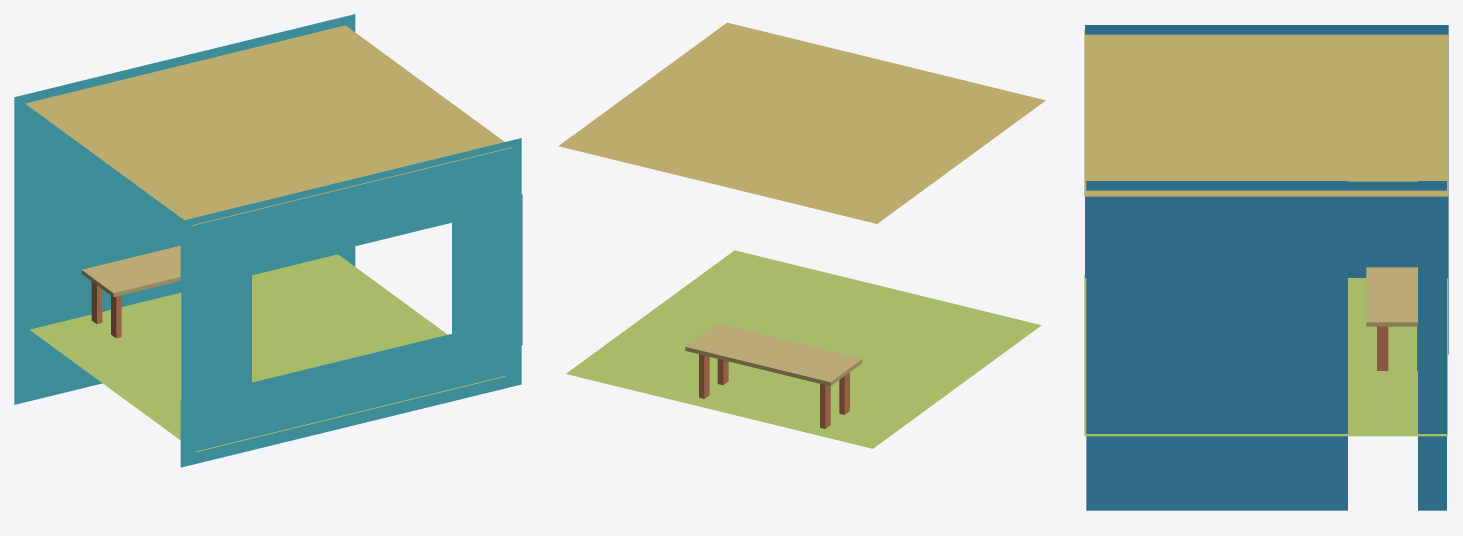
File: room1.gltf
3 renders of one model, left to right at view 1: azimuth 30°, elevation 25°; view 2: azimuth 150°, elevation 25°; view 3: azimuth 270°, elevation 25°, orthographic. The views are drawn at different scales.
Visible parts, largest first — view 1: Plane.004, Plane.005, Plane, Plane.006, Plane.001, Plane.007, Plane.008, Cube; view 2: Plane.004, Plane, Cube; view 3: Plane.003, Plane.004, Plane, Plane.009, Plane.010, Plane.002, Cube, Cube.003.
Boxes of the visible parts, x1=… form: Plane.004: x1=25, y1=25, x2=512, y2=225; Plane.005: x1=14, y1=14, x2=355, y2=404; Plane: x1=30, y1=254, x2=504, y2=451; Plane.006: x1=180, y1=138, x2=521, y2=288; Plane.001: x1=180, y1=317, x2=521, y2=467; Plane.007: x1=181, y1=260, x2=251, y2=428; Plane.008: x1=452, y1=194, x2=522, y2=344; Cube: x1=81, y1=245, x2=180, y2=297; Plane.004: x1=558, y1=22, x2=1045, y2=223; Plane: x1=566, y1=250, x2=1041, y2=448; Cube: x1=685, y1=323, x2=862, y2=386; Plane.003: x1=1086, y1=181, x2=1347, y2=510; Plane.004: x1=1084, y1=29, x2=1448, y2=196; Plane: x1=1084, y1=274, x2=1447, y2=436; Plane.009: x1=1418, y1=181, x2=1446, y2=510; Plane.010: x1=1341, y1=181, x2=1424, y2=267; Plane.002: x1=1085, y1=25, x2=1448, y2=354; Cube: x1=1366, y1=267, x2=1417, y2=326; Cube.003: x1=1377, y1=326, x2=1388, y2=370.
Bounding box in the file's own units: 13.96 × 12 × 12.03.
